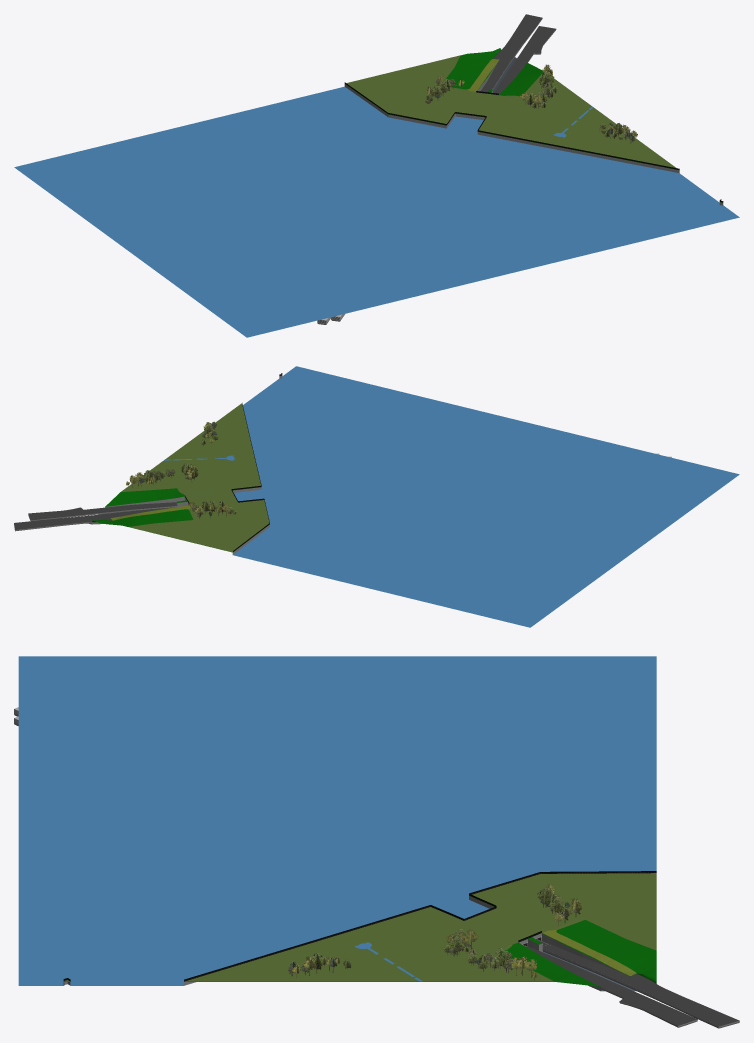
The picture shows the model from 3 angles, top to bottom: view 1: azimuth 30°, elevation 25°; view 2: azimuth 150°, elevation 25°; view 3: azimuth 270°, elevation 25°; orthographic projection. The views are drawn at different scales.
Parts seen in each view (by area): view 1: 005339_07011_water, 005339_07011_facilligreen, 005339_07011_roadcityhighway, 005339_07011_ground; view 2: 005339_07011_water, 005339_07011_facilligreen, 005339_07011_roadcityhighway, 005339_07011_ground; view 3: 005339_07011_water, 005339_07011_facilligreen, 005339_07011_roadcityhighway, 005339_07011_ground.
Boxes of the visible parts, x1,y1,x2,y2 form: 005339_07011_water: (14,84,739,337); 005339_07011_facilligreen: (344,55,723,202); 005339_07011_roadcityhighway: (317,14,556,324); 005339_07011_ground: (360,48,720,202); 005339_07011_water: (164,366,739,627); 005339_07011_facilligreen: (111,373,282,552); 005339_07011_roadcityhighway: (14,453,671,531); 005339_07011_ground: (88,375,281,552); 005339_07011_water: (18,656,656,985); 005339_07011_facilligreen: (63,871,656,981); 005339_07011_roadcityhighway: (14,707,739,1028); 005339_07011_ground: (64,896,656,991).
Size of the model in its own units: 769 by 30.91 by 640.
10 materials, 10 textured.
